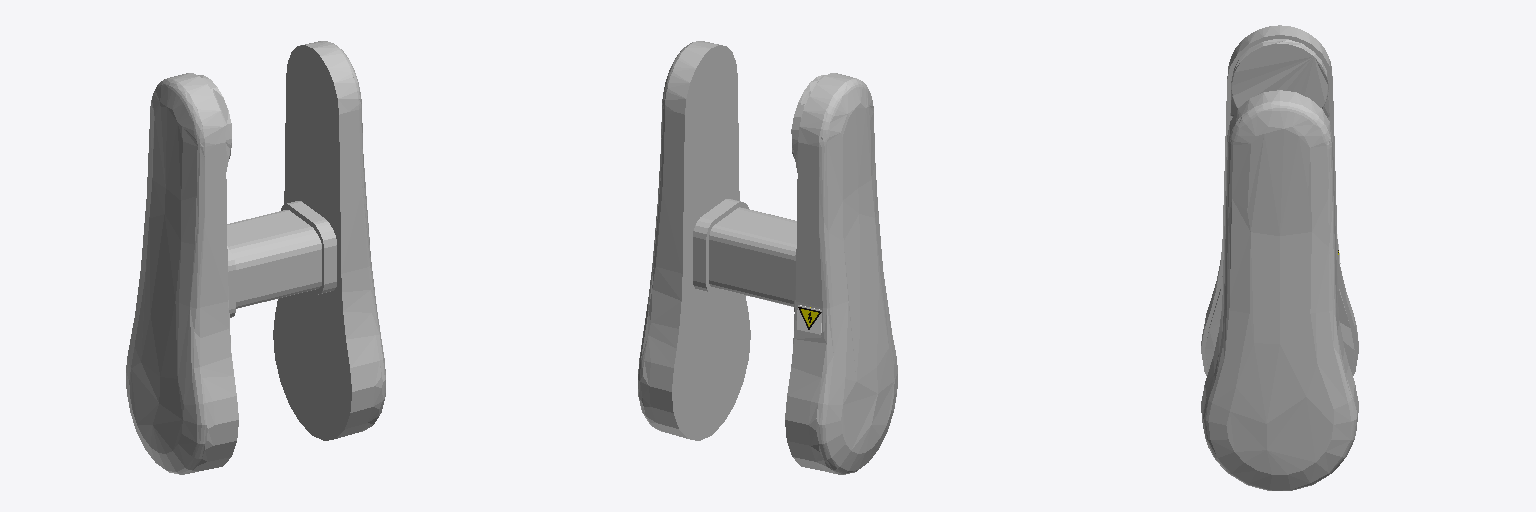
3 views of the same model, side by side, from view 1: azimuth 30°, elevation 25°; view 2: azimuth 150°, elevation 25°; view 3: azimuth 270°, elevation 25° (orthographic).
Visible parts, largest first — view 1: IRB120_3_58_IRC5_Link2_rev002; view 2: IRB120_3_58_IRC5_Link2_rev002, Box507; view 3: IRB120_3_58_IRC5_Link2_rev002.
Part boxes in pixels (left/top/right/bottom): IRB120_3_58_IRC5_Link2_rev002: left=126, top=41, right=385, bottom=474; IRB120_3_58_IRC5_Link2_rev002: left=638, top=41, right=897, bottom=474; Box507: left=797, top=305, right=821, bottom=334; IRB120_3_58_IRC5_Link2_rev002: left=1201, top=25, right=1358, bottom=490.
Size of the model in its own units: 219 by 391 by 145.
Materials: 3 (1 with a texture image).